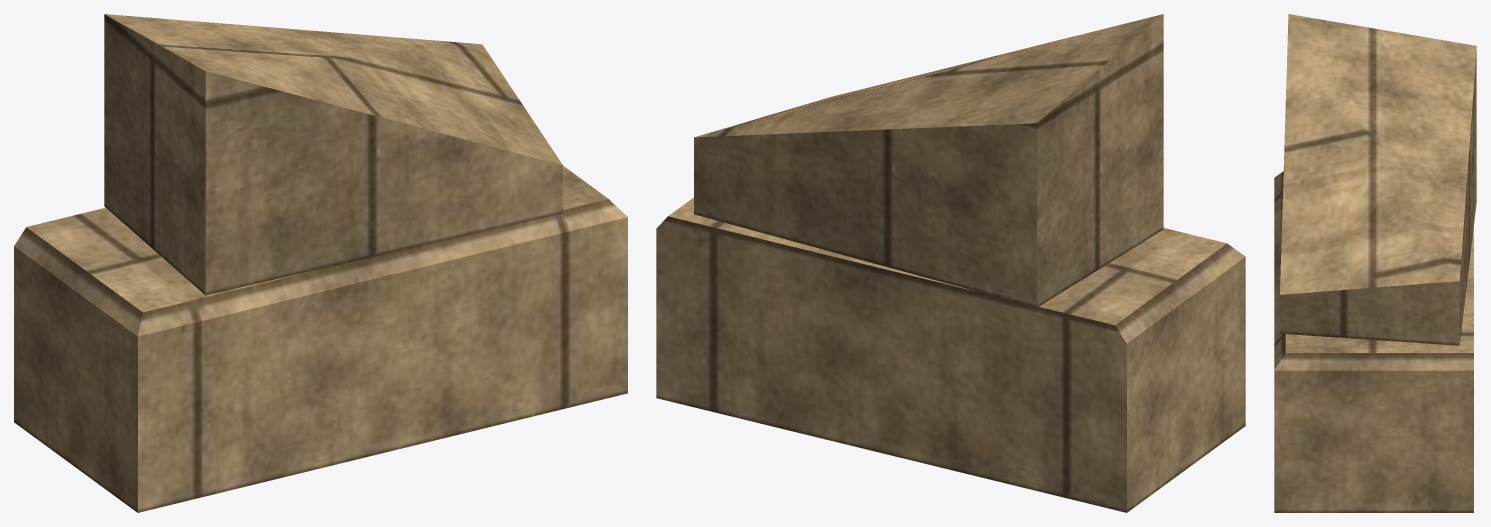
Rendered from debris_seattle_sandstone_block.glb.
The picture shows the model from 3 angles, left to right: view 1: azimuth 30°, elevation 25°; view 2: azimuth 150°, elevation 25°; view 3: azimuth 270°, elevation 25°; orthographic projection. The views are drawn at different scales.
Visible parts, largest first — view 1: debris_seattle_sandstone_block; view 2: debris_seattle_sandstone_block; view 3: debris_seattle_sandstone_block.
Boxes of the visible parts, x1,y1,x2,y2 form: debris_seattle_sandstone_block: (14, 14, 627, 512); debris_seattle_sandstone_block: (656, 14, 1245, 512); debris_seattle_sandstone_block: (1274, 14, 1476, 512).
Bounding box in the file's own units: 1.6 × 1.3 × 0.71.
1 material, 1 textured.
